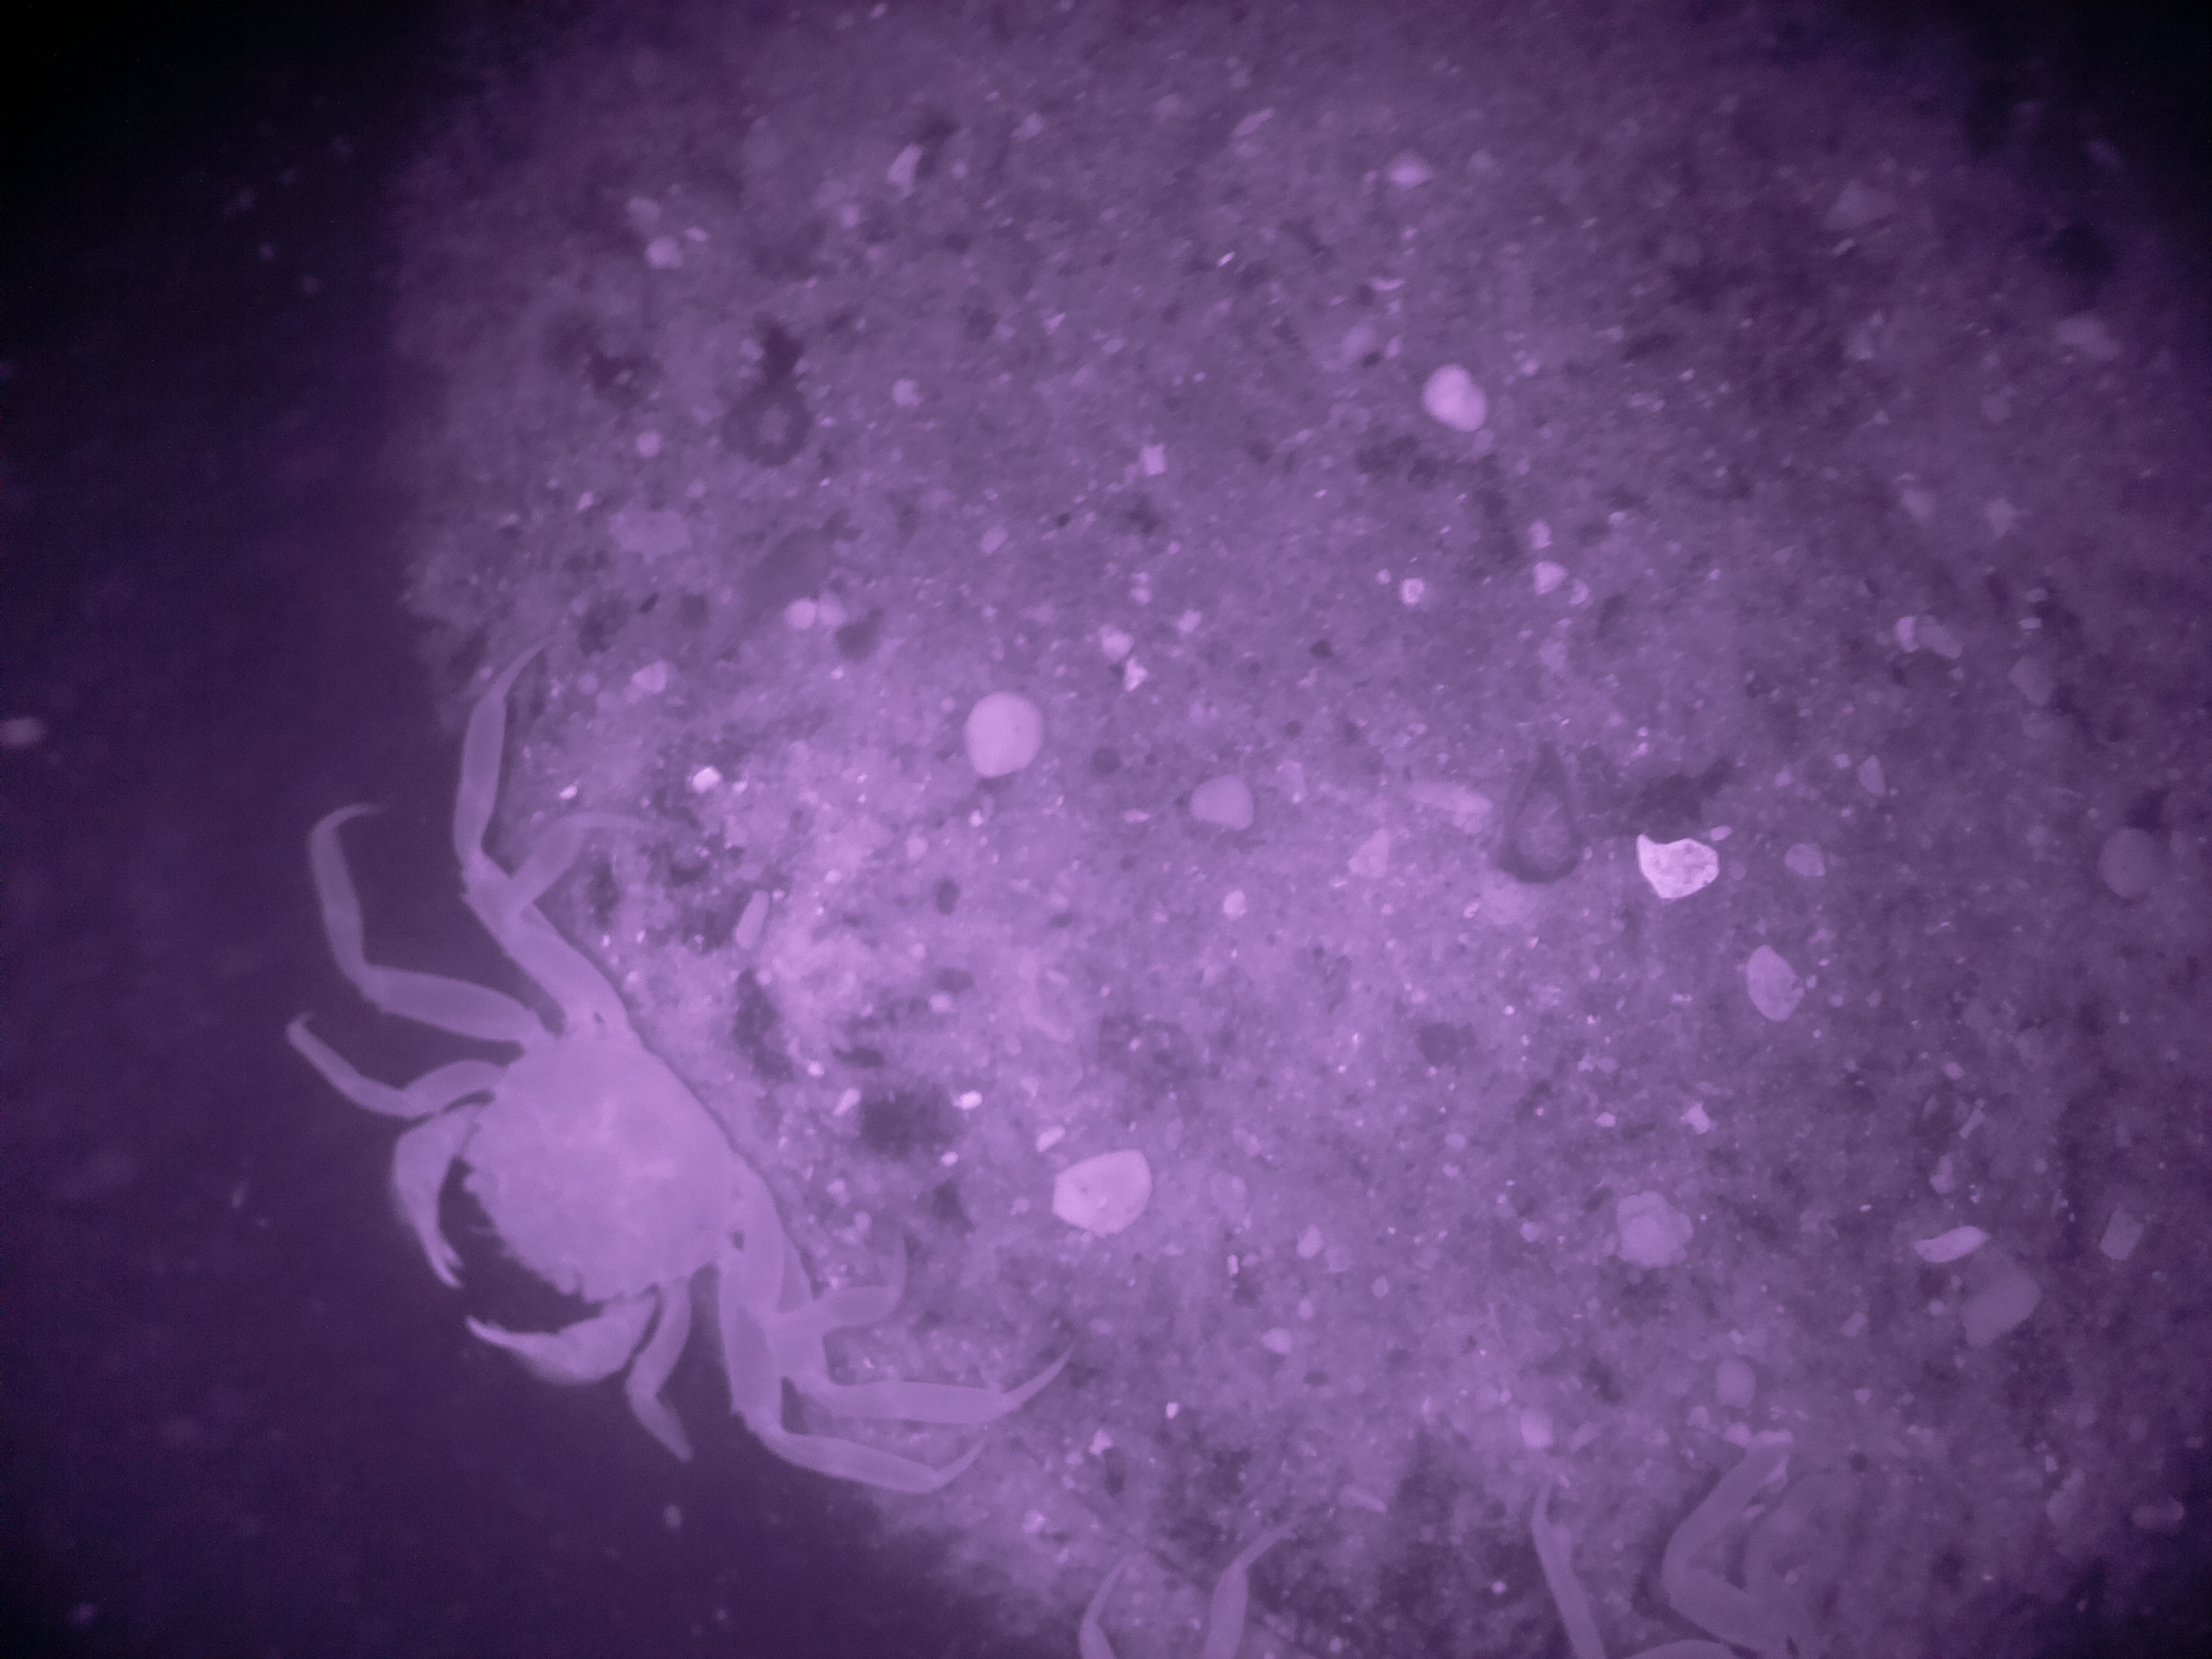Crab: (319, 859, 833, 1513)
